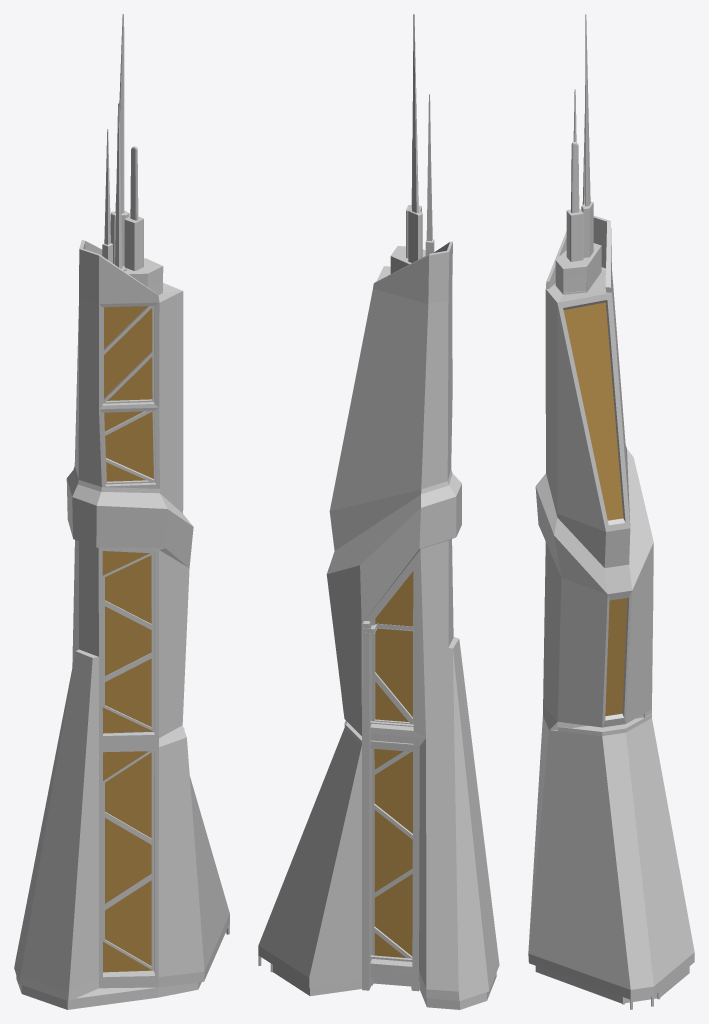
Rendered from Skyscraper2.glb.
3 views of the same model, side by side, from view 1: azimuth 30°, elevation 25°; view 2: azimuth 150°, elevation 25°; view 3: azimuth 270°, elevation 25° (orthographic). The views are drawn at different scales.
Parts seen in each view (by area): view 1: Skyscraper 1; view 2: Skyscraper 1; view 3: Skyscraper 1.
Boxes of the visible parts, box(x1,y1,x2,y2) form: Skyscraper 1: box(14, 14, 229, 1009); Skyscraper 1: box(258, 14, 499, 1009); Skyscraper 1: box(528, 14, 694, 1009).
Size of the model in its own units: 33.81 by 142 by 22.95.
